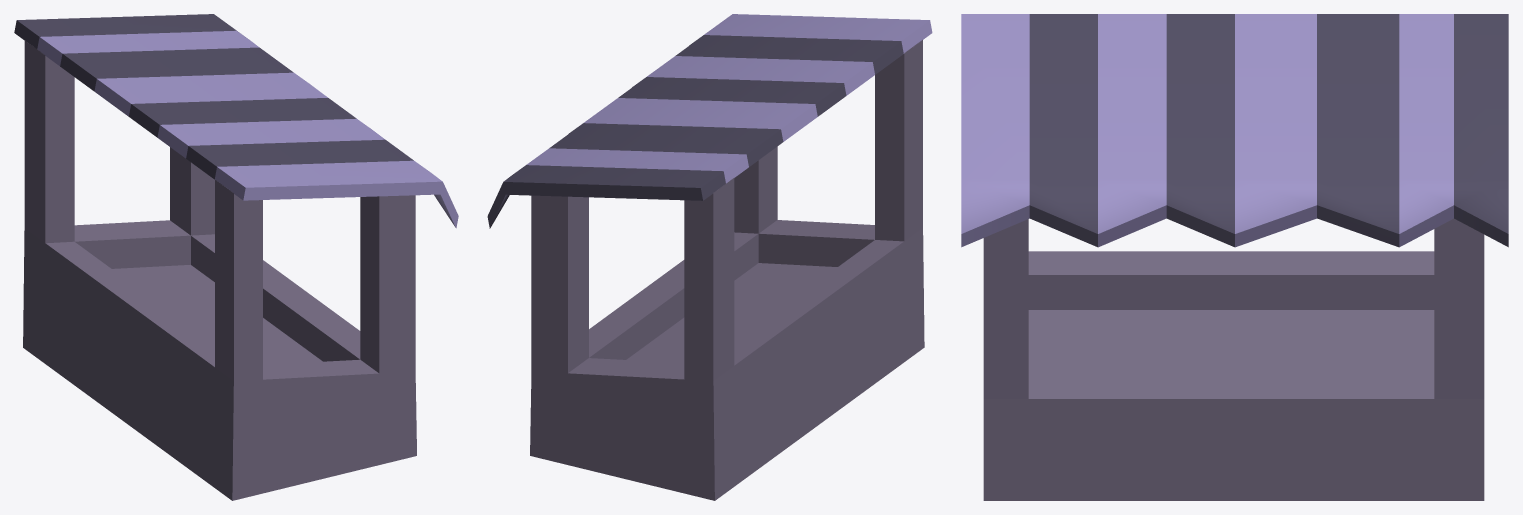
The model's file is Market_Stall_Ver2.fbx.
3 renders of one model, left to right at view 1: azimuth 30°, elevation 25°; view 2: azimuth 150°, elevation 25°; view 3: azimuth 270°, elevation 25°, orthographic. The views are drawn at different scales.
Visible parts, largest first — view 1: Market_Stall_Ver2; view 2: Market_Stall_Ver2; view 3: Market_Stall_Ver2.
Part boxes in pixels (x1,y1,x2,y2): Market_Stall_Ver2: (14, 14, 458, 500); Market_Stall_Ver2: (487, 14, 932, 500); Market_Stall_Ver2: (961, 14, 1508, 500).
Size of the model in its own units: 1.78 by 2.5 by 3.25.
